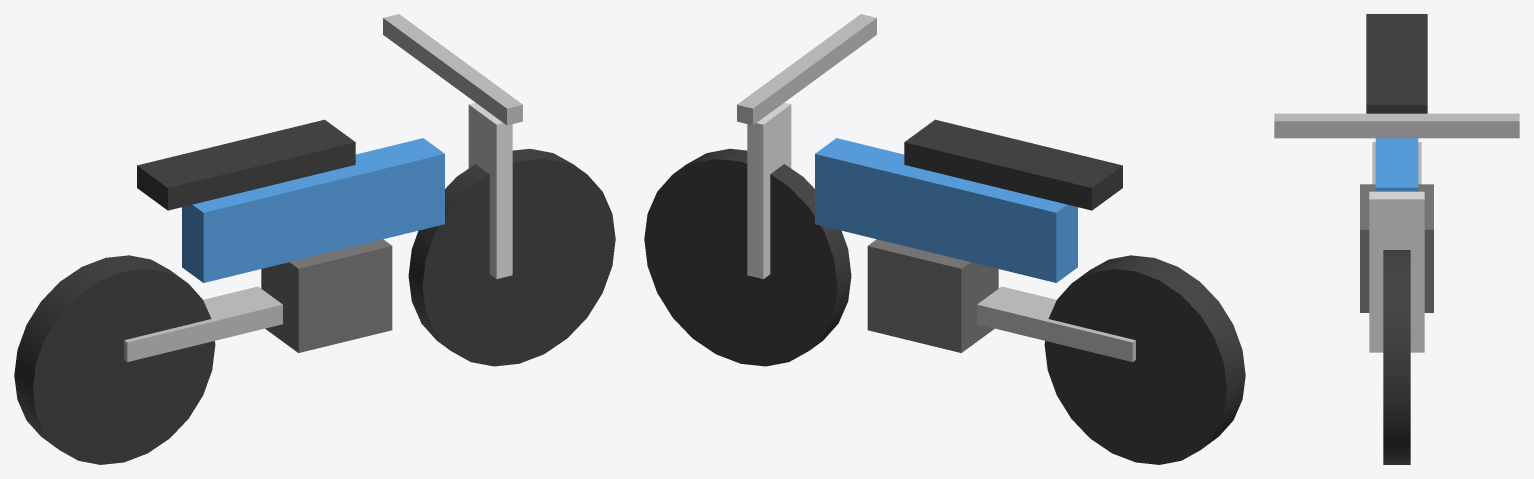
File: test-bike-draco.glb
3 views of the same model, side by side, from view 1: azimuth 30°, elevation 25°; view 2: azimuth 150°, elevation 25°; view 3: azimuth 270°, elevation 25° (orthographic).
Visible parts, largest first — view 1: Wheel_Front, Wheel_Rear, Frame, Engine, Seat, Fork_Lower, Swingarm, Handlebar; view 2: Wheel_Front, Wheel_Rear, Frame, Engine, Seat, Fork_Lower, Swingarm, Handlebar; view 3: Handlebar, Fork_Lower, Seat, Wheel_Front, Engine, Frame, Swingarm.
Boxes of the visible parts, x1,y1,x2,y2 form: Wheel_Front: (408,148,615,366); Wheel_Rear: (14,255,215,464); Frame: (182,138,444,282); Engine: (261,239,392,352); Seat: (137,119,355,210); Fork_Lower: (468,102,512,279); Swingarm: (124,286,282,361); Handlebar: (383,14,522,125); Wheel_Front: (644,148,851,366); Wheel_Rear: (1044,255,1245,464); Frame: (815,138,1077,282); Engine: (867,239,998,352); Seat: (904,119,1122,210); Fork_Lower: (747,102,791,279); Swingarm: (977,286,1135,361); Handlebar: (737,14,876,125); Handlebar: (1274,113,1519,138); Fork_Lower: (1369,191,1424,352); Seat: (1366,14,1427,113); Wheel_Front: (1383,250,1410,464); Engine: (1360,184,1433,312); Frame: (1375,138,1418,191); Swingarm: (1372,142,1421,184).
Bounding box in the file's own units: 218 × 111 × 80.
